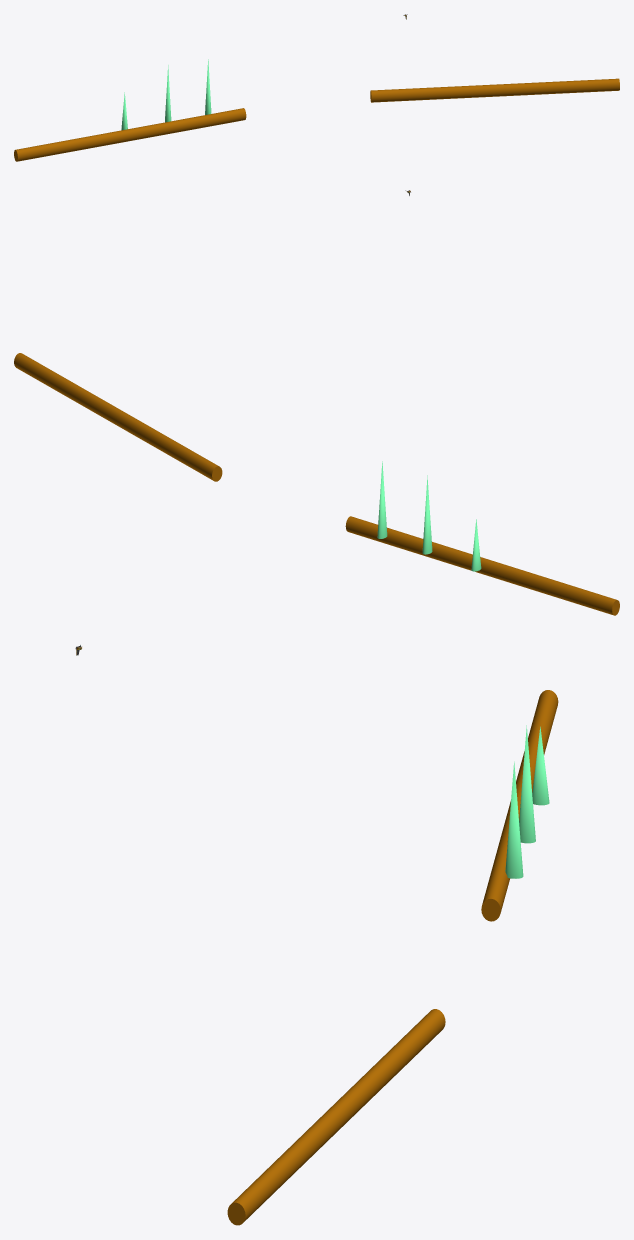
The model's file is UV_Vertical.fbx.
3 views of the same model, one above another, from view 1: azimuth 30°, elevation 25°; view 2: azimuth 150°, elevation 25°; view 3: azimuth 270°, elevation 25° (orthographic). The views are drawn at different scales.
Parts seen in each view (by area): view 1: pCylinder7.000, pCylinder7.001, pCone9.001, pCone10.001; view 2: pCylinder7.001, pCylinder7.000; view 3: pCylinder7.000, pCylinder7.001, pCone10.001, pCone9.001, pCone8.001.
Part boxes in pixels (x1,y1,x2,y2): pCylinder7.000: (370,78,619,102); pCylinder7.001: (14,108,246,161); pCone9.001: (165,65,171,122); pCone10.001: (205,59,211,114); pCylinder7.001: (345,516,619,615); pCylinder7.000: (14,353,222,481); pCylinder7.000: (227,1009,445,1225); pCylinder7.001: (481,690,558,921); pCone10.001: (505,761,523,878); pCone9.001: (519,725,535,843); pCone8.001: (532,726,549,805).
Size of the model in its own units: 178926 by 53904 by 70901.
